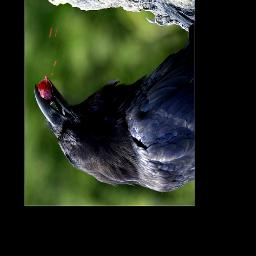Crow: (33, 0, 195, 193)
